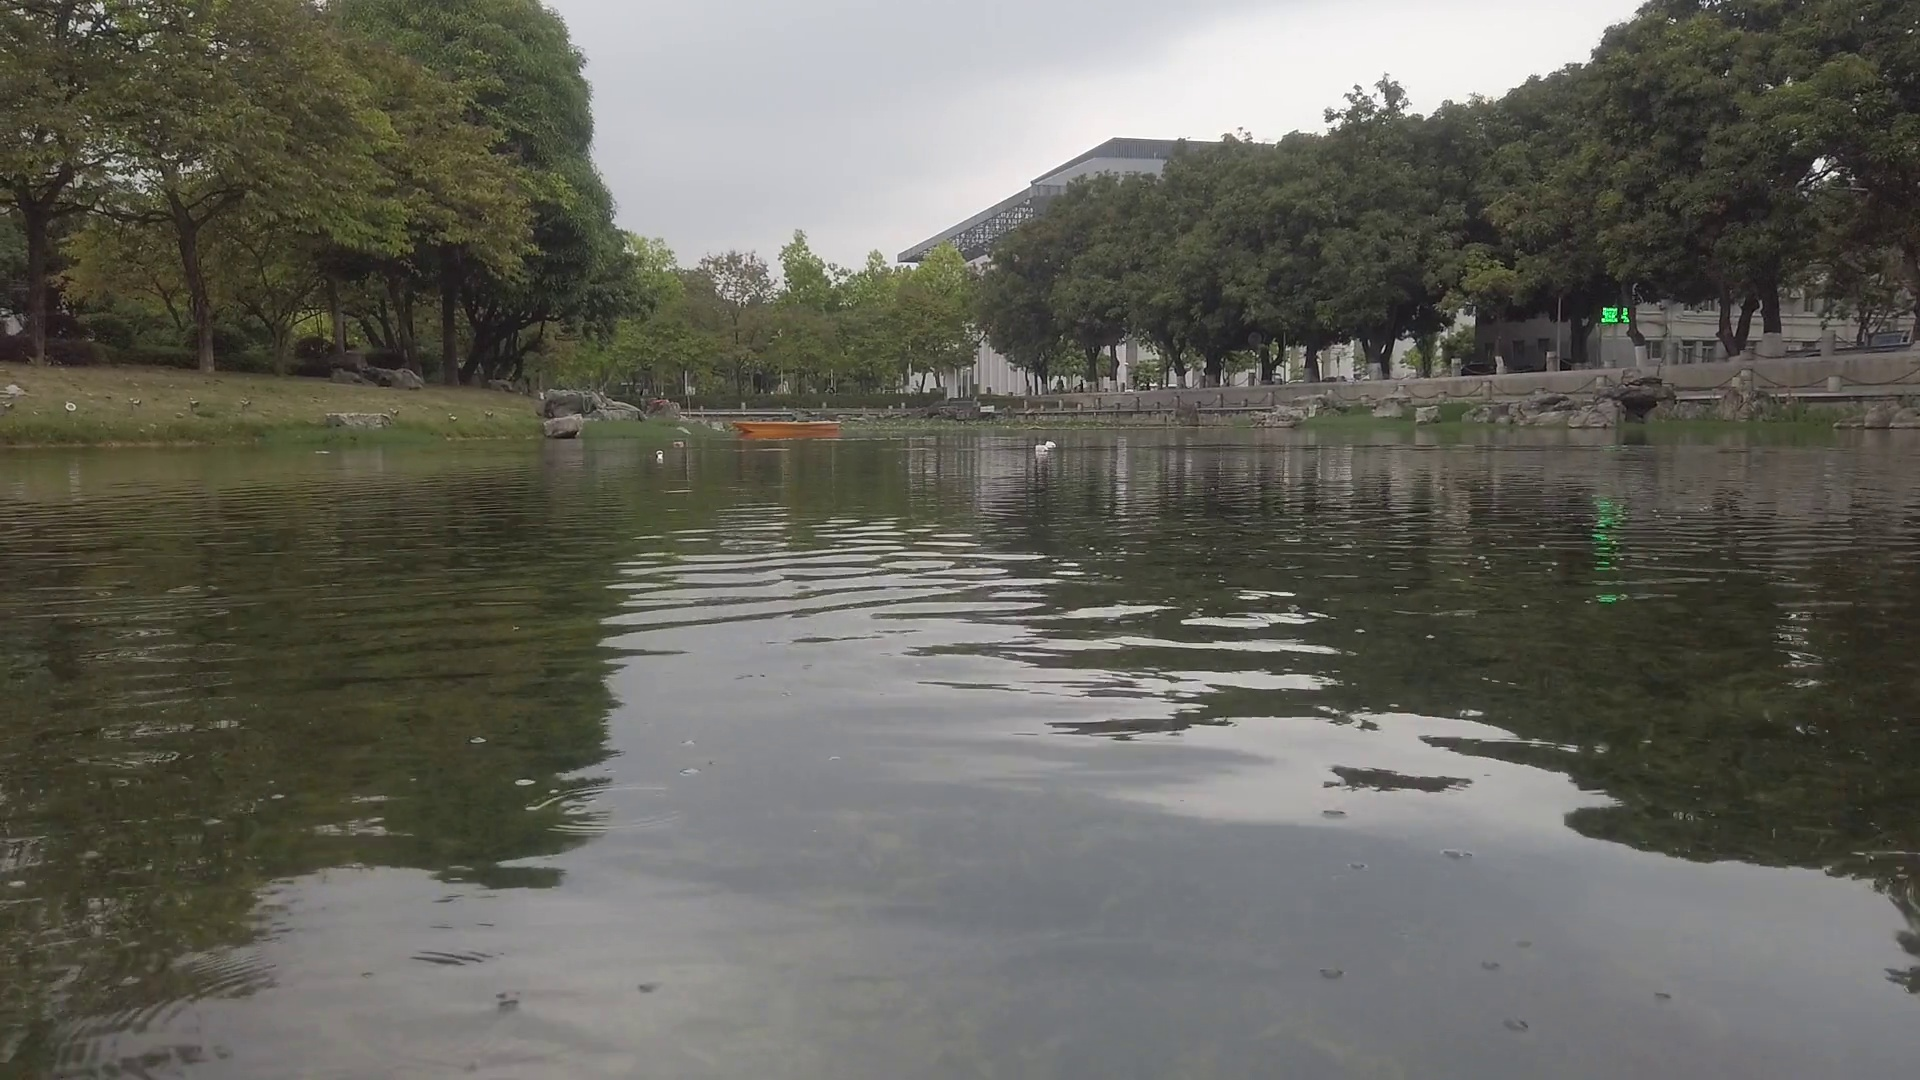bottle: (654, 448, 663, 462), (673, 440, 684, 447)
carton: (1036, 440, 1055, 454)
paper: (314, 446, 331, 458)
